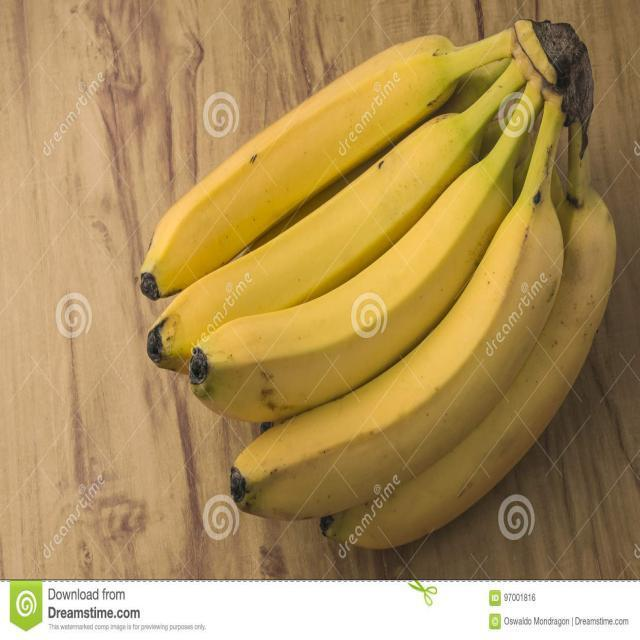Banana: (134, 12, 622, 557)
